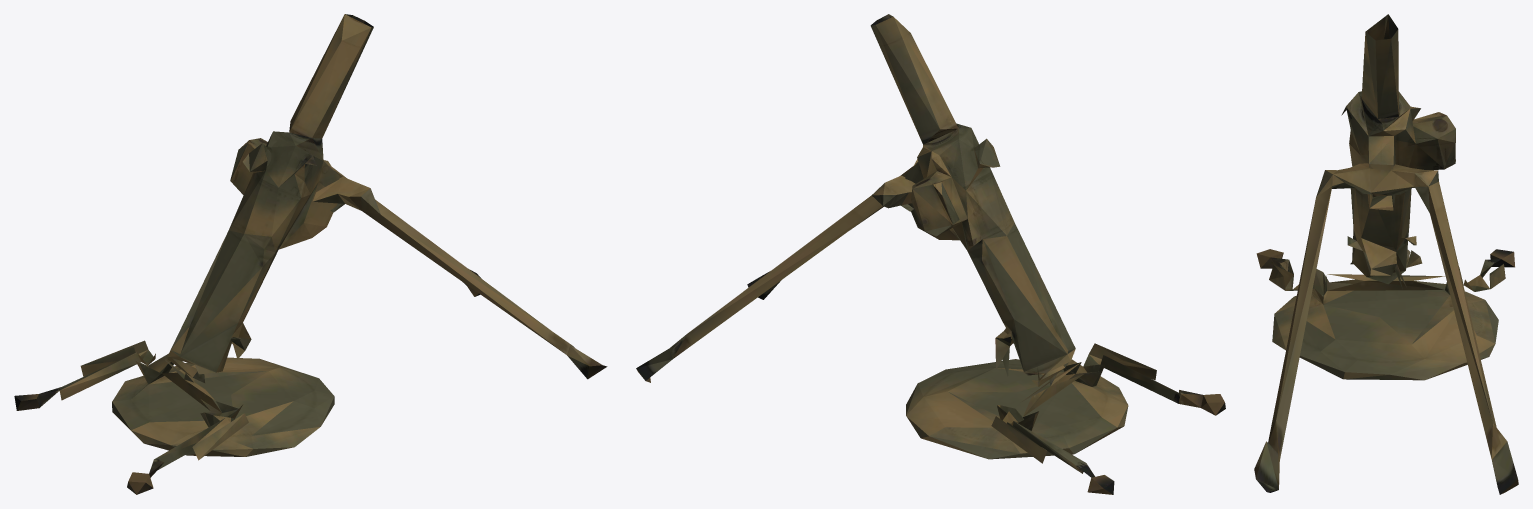
The model's file is mortar.glb.
3 renders of one model, left to right at view 1: azimuth 30°, elevation 25°; view 2: azimuth 150°, elevation 25°; view 3: azimuth 270°, elevation 25°, orthographic. The views are drawn at different scales.
Parts seen in each view (by area): view 1: mortar; view 2: mortar; view 3: mortar.
Boxes of the visible parts, x1,y1,x2,y2 form: mortar: [14, 14, 607, 494]; mortar: [636, 14, 1225, 494]; mortar: [1254, 14, 1518, 494].
Bounding box in the file's own units: 1.73 × 1.28 × 0.7951.
1 material, 1 textured.
